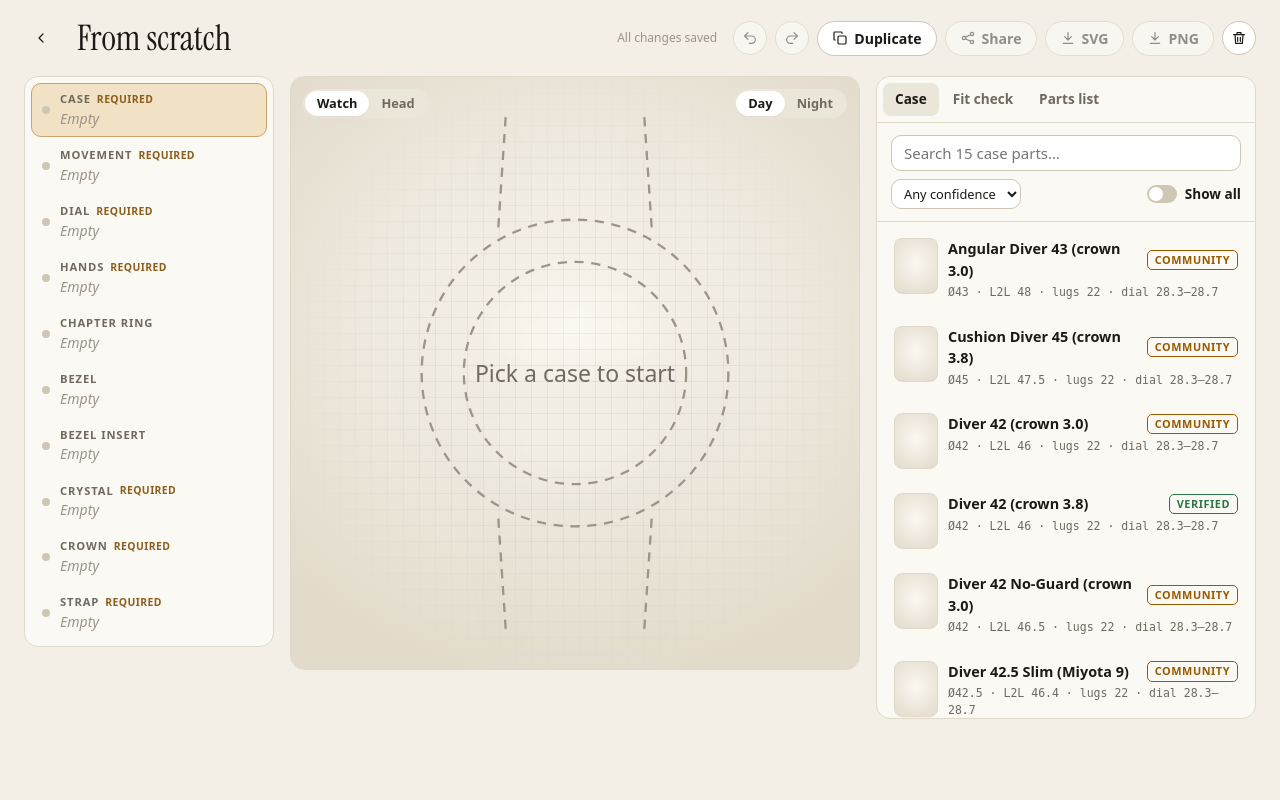
BuilderScreen › assembles a build from empty and autosaves it
Check: the field named "Build name" is shown, box [70, 16, 601, 60]
# Starts on the case picker.
Click the option "Diver 42 (crown 3.8)".
click(1066, 521)  # box [883, 483, 1249, 559]
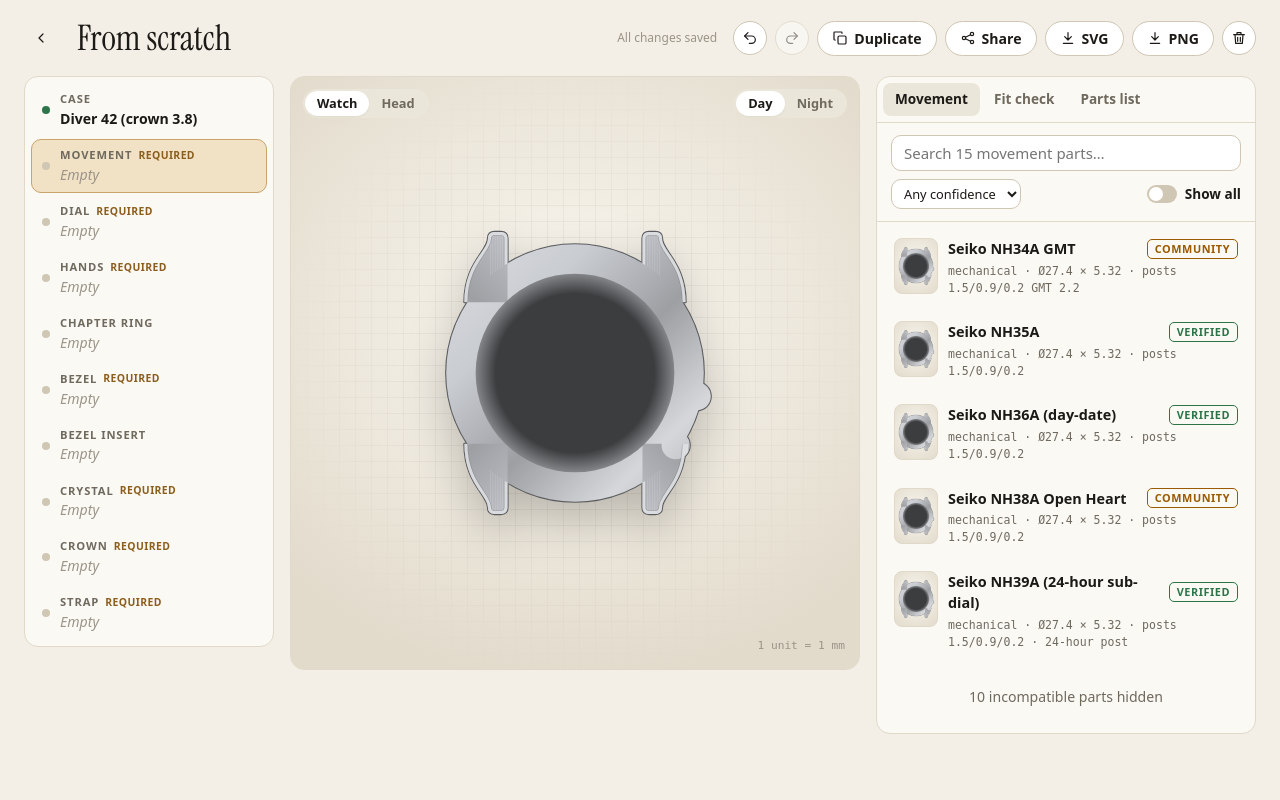
Check: the button with aria-label "Case: Diver 42" is shown, box [60, 91, 214, 129]
Check: the tab "Movement" is shown, box [883, 83, 980, 116]
